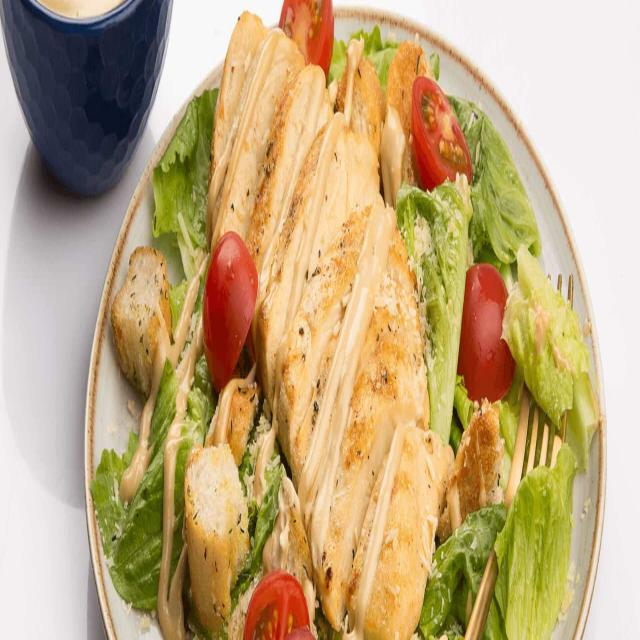pollo: (206, 11, 434, 634)
